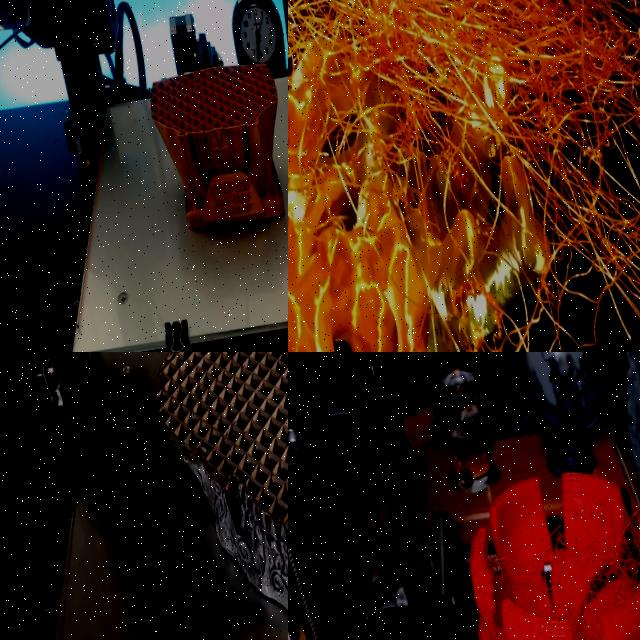spaghetti: (288, 0, 640, 352), (469, 509, 640, 640)
